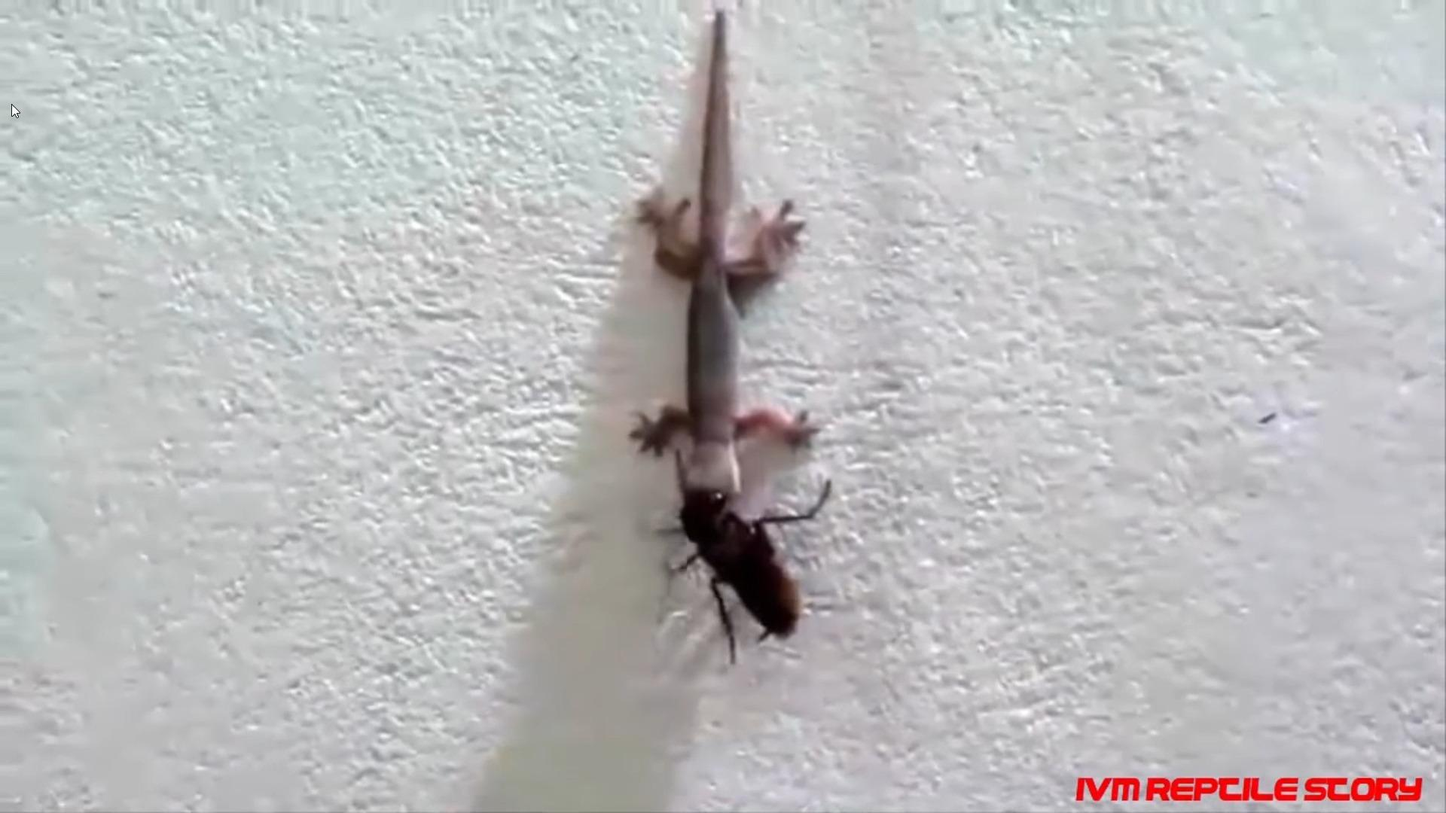cockroach: (676, 493, 804, 649)
lizard: (649, 8, 797, 509)
